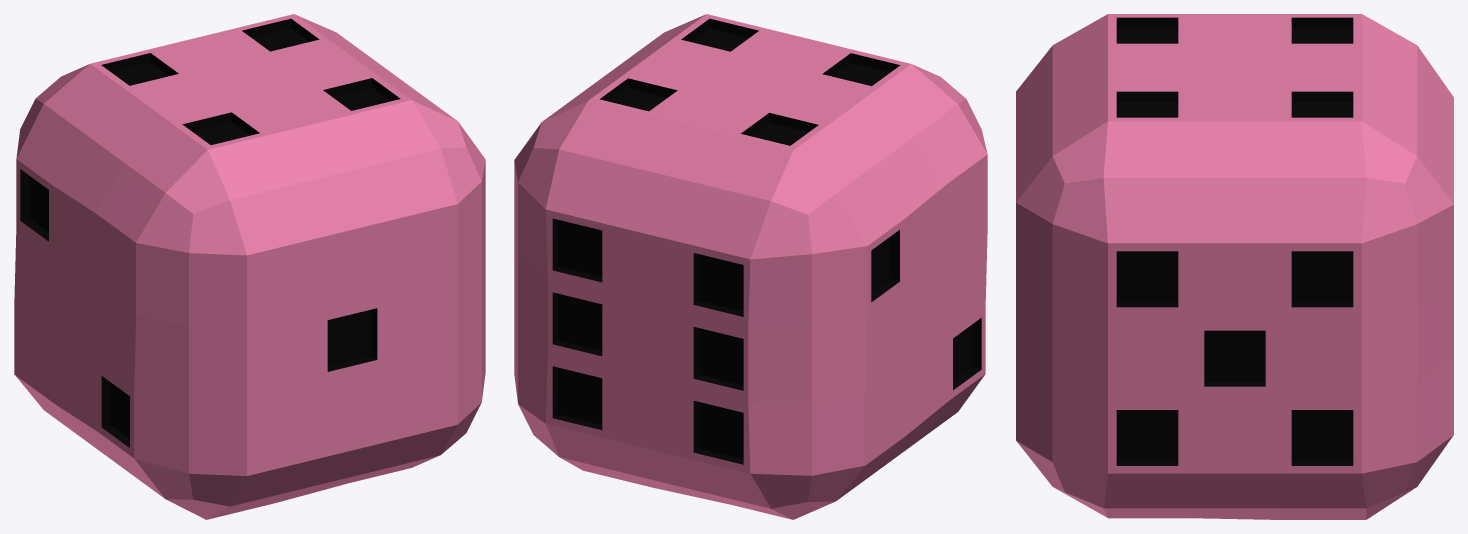
The model's file is full_die1.glb.
The picture shows the model from 3 angles, left to right: view 1: azimuth 30°, elevation 25°; view 2: azimuth 150°, elevation 25°; view 3: azimuth 270°, elevation 25°; orthographic projection. The views are drawn at different scales.
Visible parts, largest first — view 1: Cube; view 2: Cube; view 3: Cube.
Boxes of the visible parts, x1,y1,x2,y2 form: Cube: (14,14,485,519); Cube: (514,14,987,519); Cube: (1016,14,1453,519).
Size of the model in its own units: 2 by 2 by 2.
